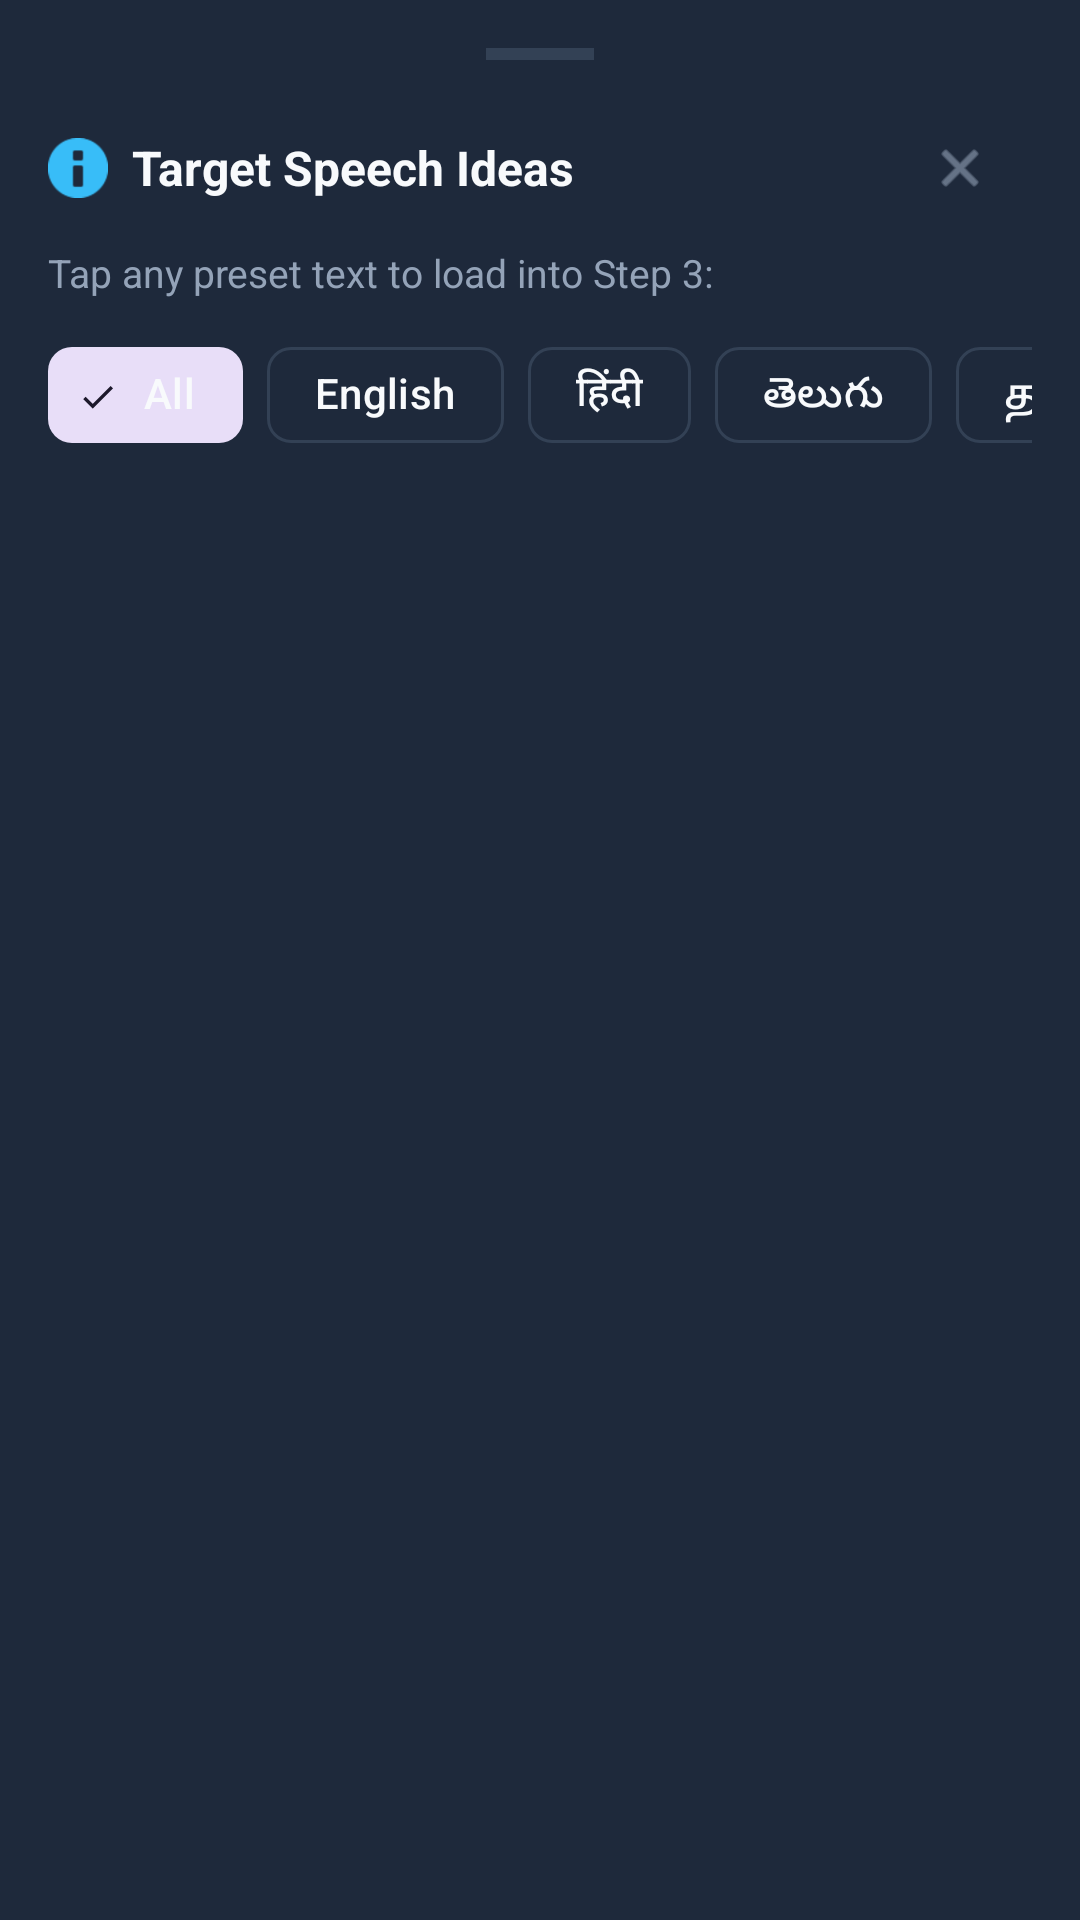

Icons on this 1080*1920 Android screen, each with its box as (x1,y1,x2,y2):
Close: (942,150,978,186)
info: (48,138,108,198)
